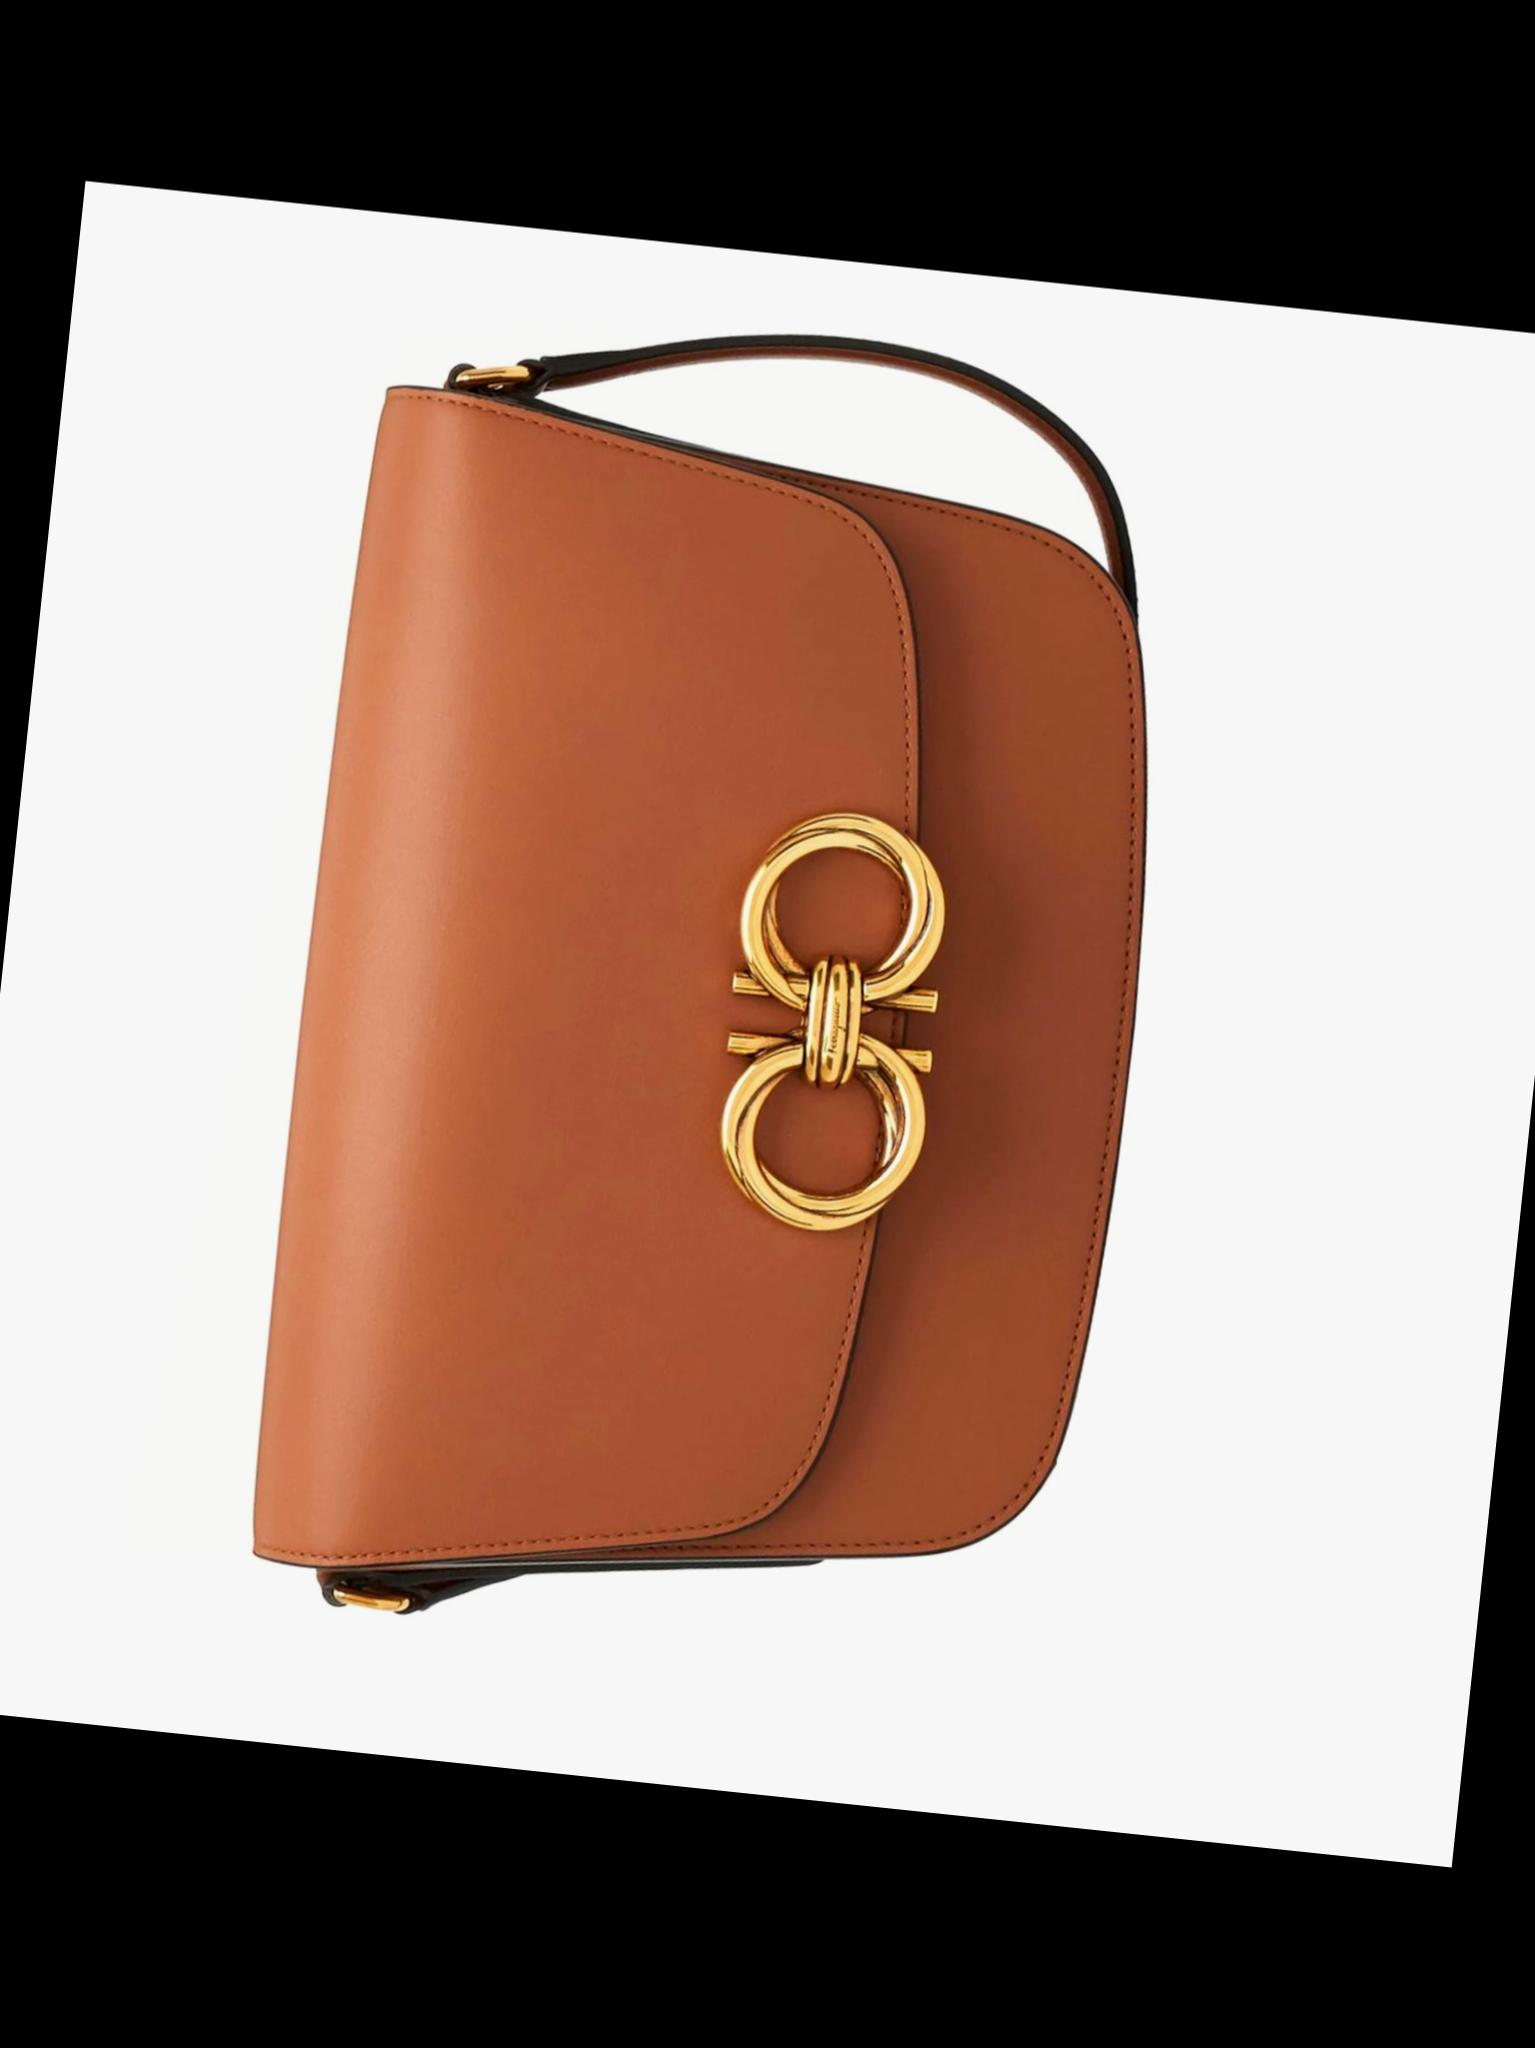FERRAGAMO: (627, 743, 1011, 1288)
